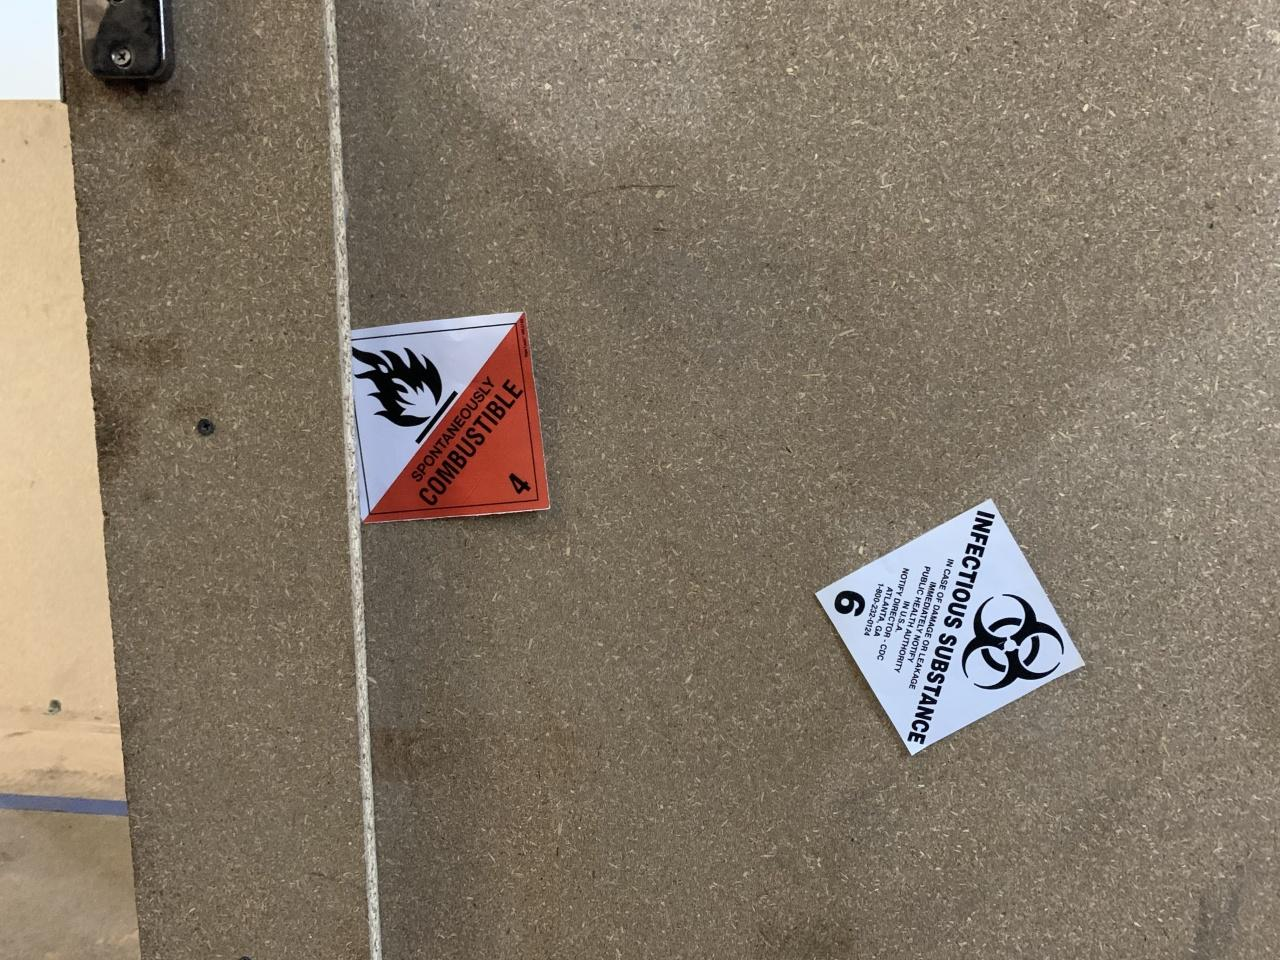infectious-substance: (813, 483, 1089, 753)
spontaneously-combustible: (341, 316, 553, 517)
